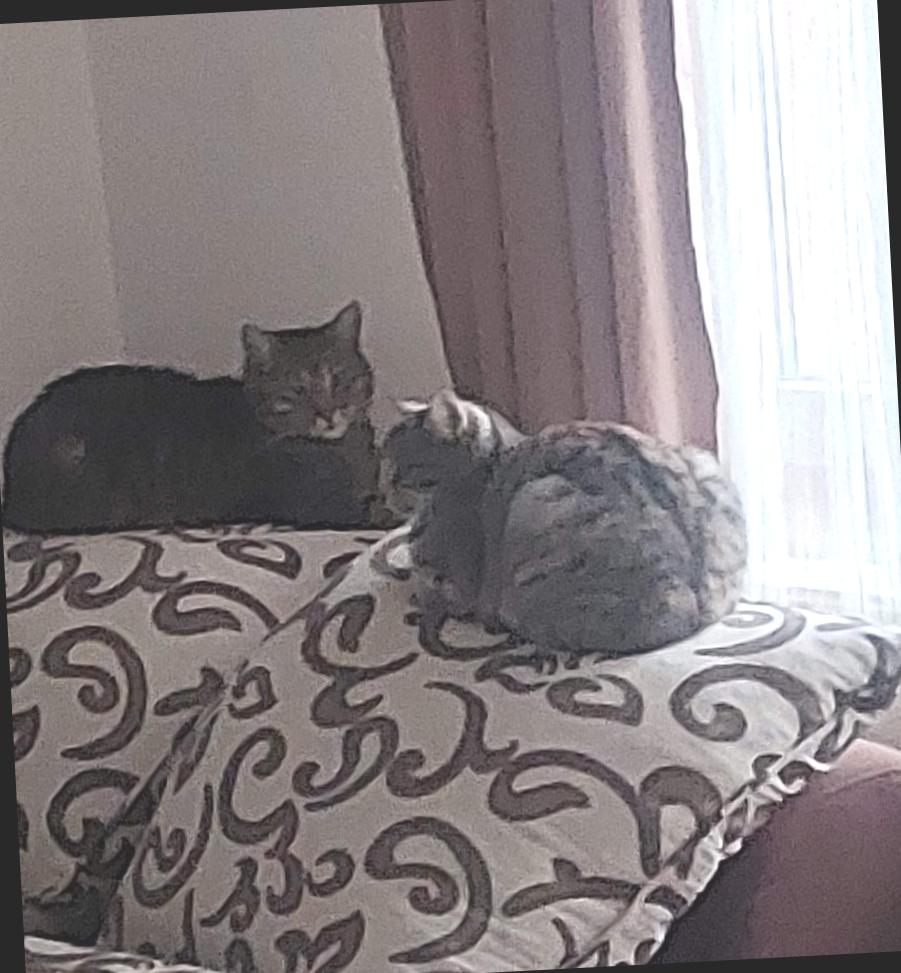macka: (369, 371, 754, 667), (0, 293, 428, 546)
